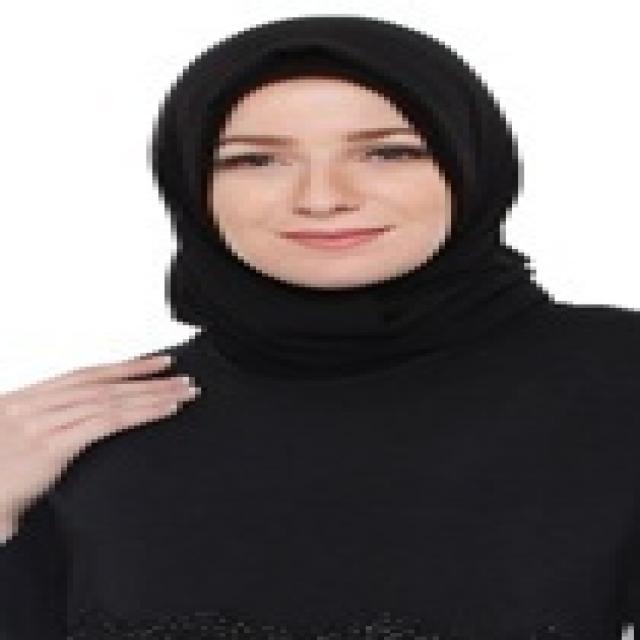head: (148, 21, 523, 305)
